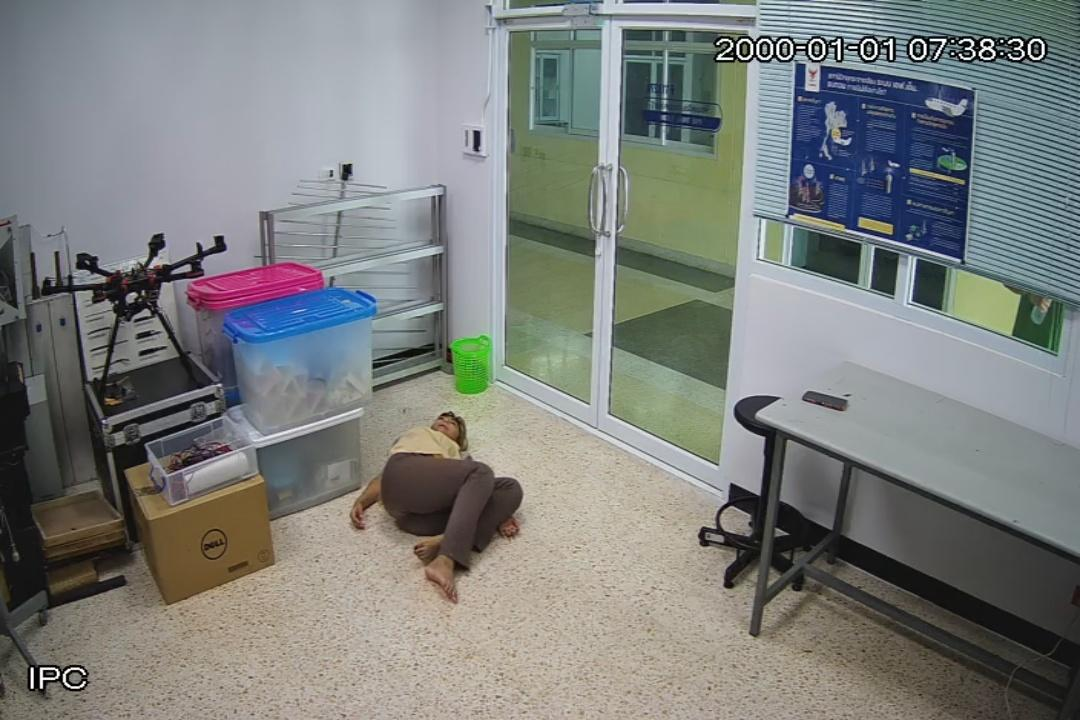fall: (350, 410, 524, 600)
